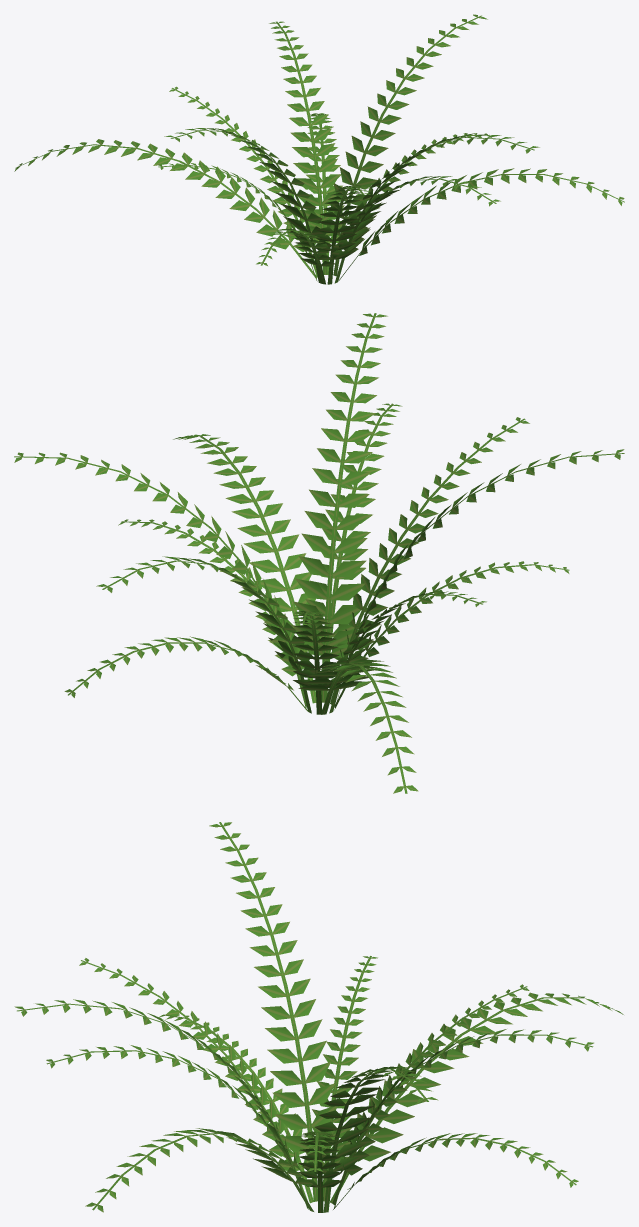
3 renders of one model, top to bottom at view 1: azimuth 30°, elevation 25°; view 2: azimuth 150°, elevation 25°; view 3: azimuth 270°, elevation 25°, orthographic. The views are drawn at different scales.
Visible parts, largest first — view 1: foliage; view 2: foliage; view 3: foliage.
Boxes of the visible parts, <box> form: foliage: <box>14,14,624,284</box>; foliage: <box>14,313,624,793</box>; foliage: <box>14,822,623,1212</box>.
Bounding box in the file's own units: 1.24 × 0.6386 × 1.32.
Materials: 1 (1 with a texture image).
